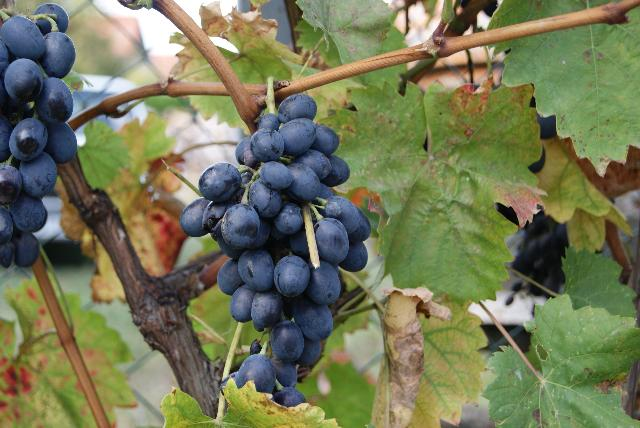grapes: (180, 78, 370, 408), (0, 4, 76, 246)
